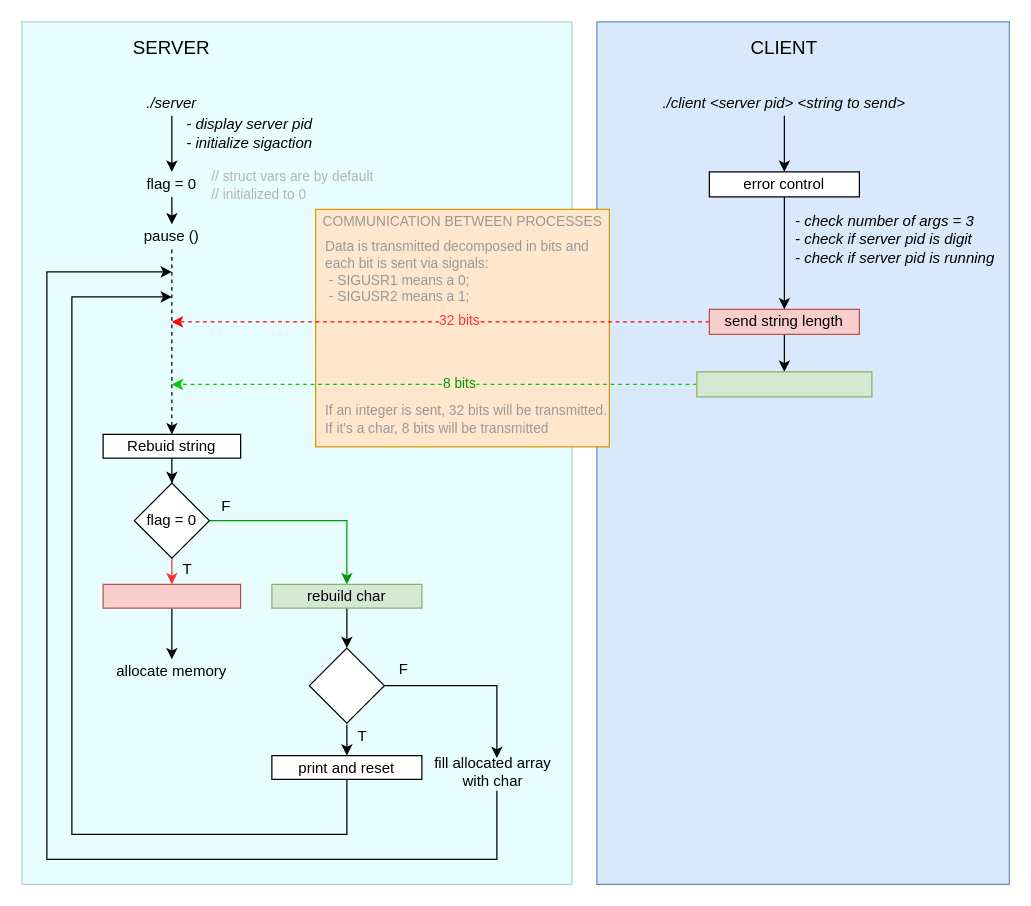
Image size: 1031x906. Some labels were removed from this diagram. The shapes that lost their labels are listed below. From the top down, each one's box as (x1, y1, x2, y2) in pixels, then its label:
(696, 371, 872, 397): send string char by char
(102, 583, 241, 608): rebuild string length
(308, 647, 384, 723): *str = '\0'
